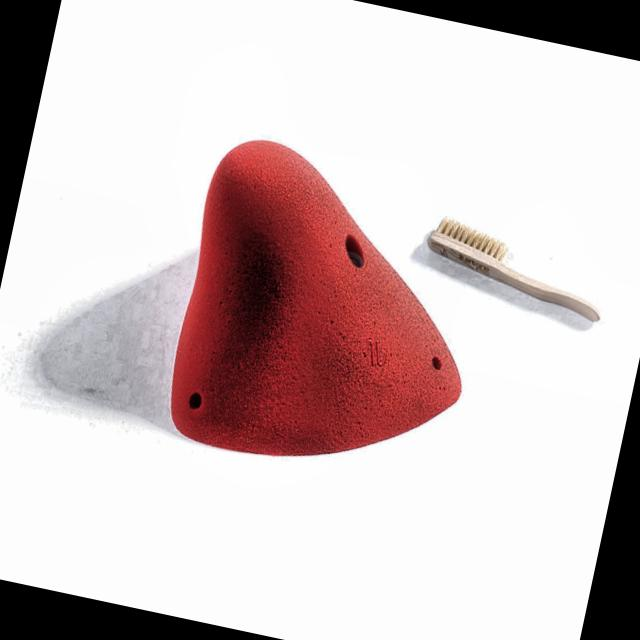Hold: (153, 125, 499, 490)
